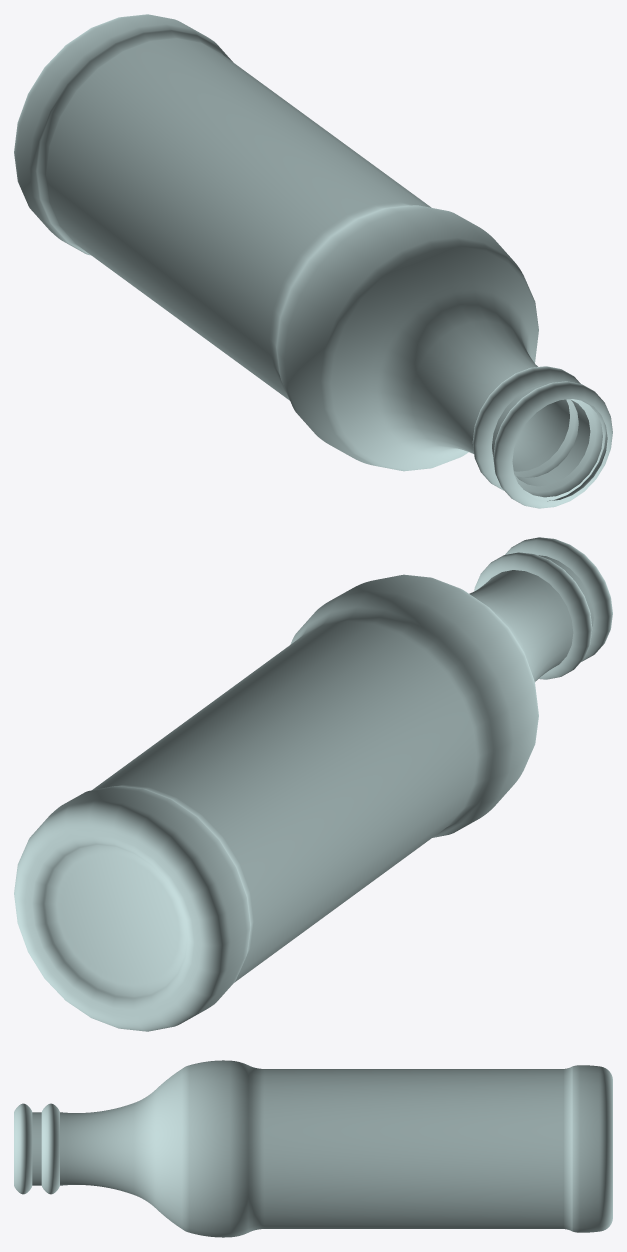
Rendered from model_scale.obj.
The picture shows the model from 3 angles, top to bottom: view 1: azimuth 30°, elevation 25°; view 2: azimuth 150°, elevation 25°; view 3: azimuth 270°, elevation 25°; orthographic projection. The views are drawn at different scales.
Parts seen in each view (by area): view 1: mesh2_mesh2-geometry, mesh1_mesh1-geometry, mesh3_mesh3-geometry; view 2: mesh2_mesh2-geometry; view 3: mesh2_mesh2-geometry.
Boxes of the visible parts, <box> form: mesh2_mesh2-geometry: <box>14,14,612,508</box>; mesh1_mesh1-geometry: <box>512,399,578,477</box>; mesh3_mesh3-geometry: <box>514,399,602,497</box>; mesh2_mesh2-geometry: <box>14,537,612,1031</box>; mesh2_mesh2-geometry: <box>14,1060,612,1237</box>.
Size of the model in its own units: 0.0728 by 0.0728 by 0.2456.
